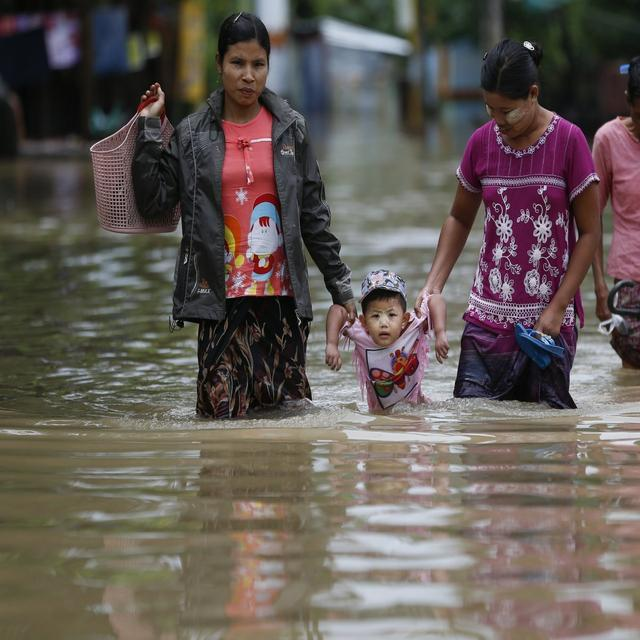Person-RiskLevel2: (132, 9, 348, 446), (426, 28, 596, 405)
Person-RiskLevel3: (319, 250, 451, 417)
